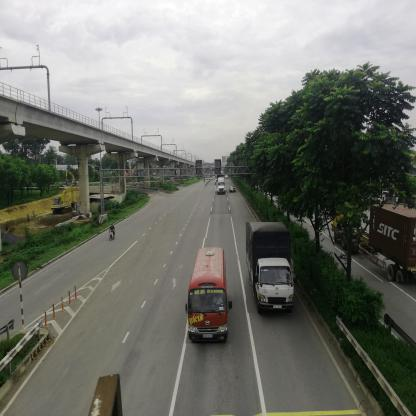bus: (187, 239, 235, 345)
car: (230, 188, 237, 194)
container: (335, 198, 416, 283), (216, 176, 226, 196)
motorbike: (109, 225, 118, 241)
truck: (247, 223, 295, 314)
